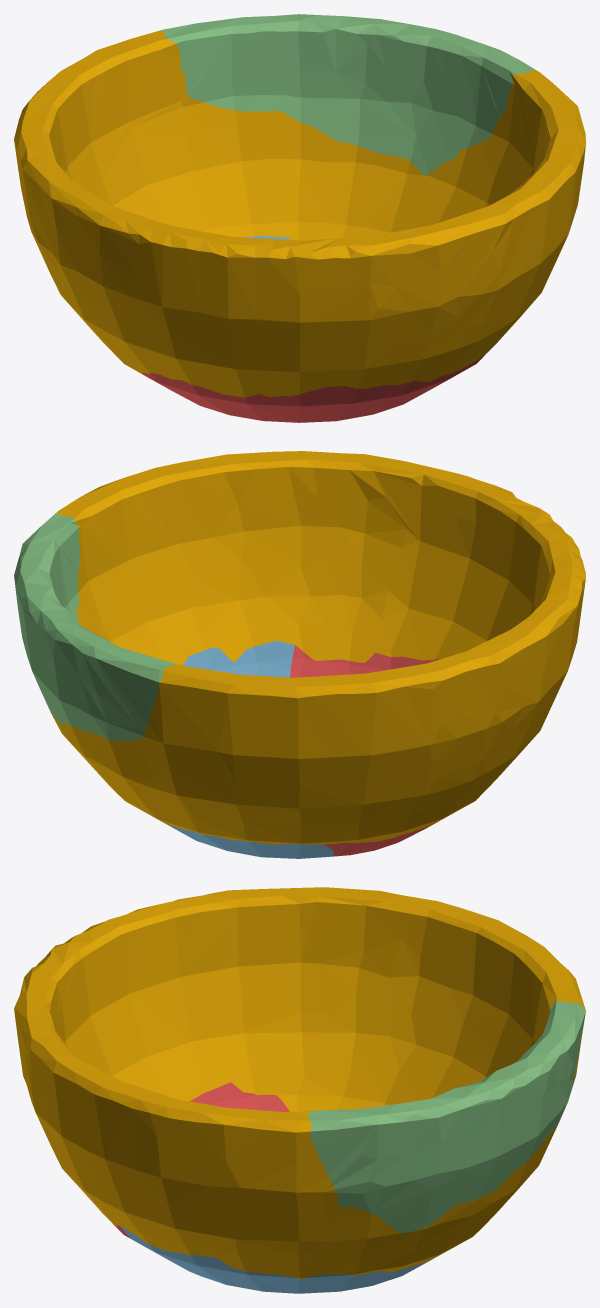
Rendered from fractured_77_4pcs.glb.
The picture shows the model from 3 angles, top to bottom: view 1: azimuth 30°, elevation 25°; view 2: azimuth 150°, elevation 25°; view 3: azimuth 270°, elevation 25°; orthographic projection.
Visible parts, largest first — view 1: piece_0.obj, piece_3.obj, piece_1.obj; view 2: piece_0.obj, piece_3.obj, piece_2.obj, piece_1.obj; view 3: piece_0.obj, piece_3.obj, piece_2.obj, piece_1.obj.
Part boxes in pixels (<box>): piece_0.obj: <box>14,30,585,397</box>; piece_3.obj: <box>160,14,534,176</box>; piece_1.obj: <box>141,349,489,422</box>; piece_0.obj: <box>51,451,585,844</box>; piece_3.obj: <box>14,514,175,741</box>; piece_2.obj: <box>163,640,333,858</box>; piece_1.obj: <box>290,645,501,856</box>; piece_0.obj: <box>14,887,585,1278</box>; piece_3.obj: <box>308,1001,585,1233</box>; piece_2.obj: <box>119,1225,439,1293</box>; piece_1.obj: <box>99,1082,292,1261</box>.
Size of the model in its own units: 0.9989 by 0.5115 by 1.
